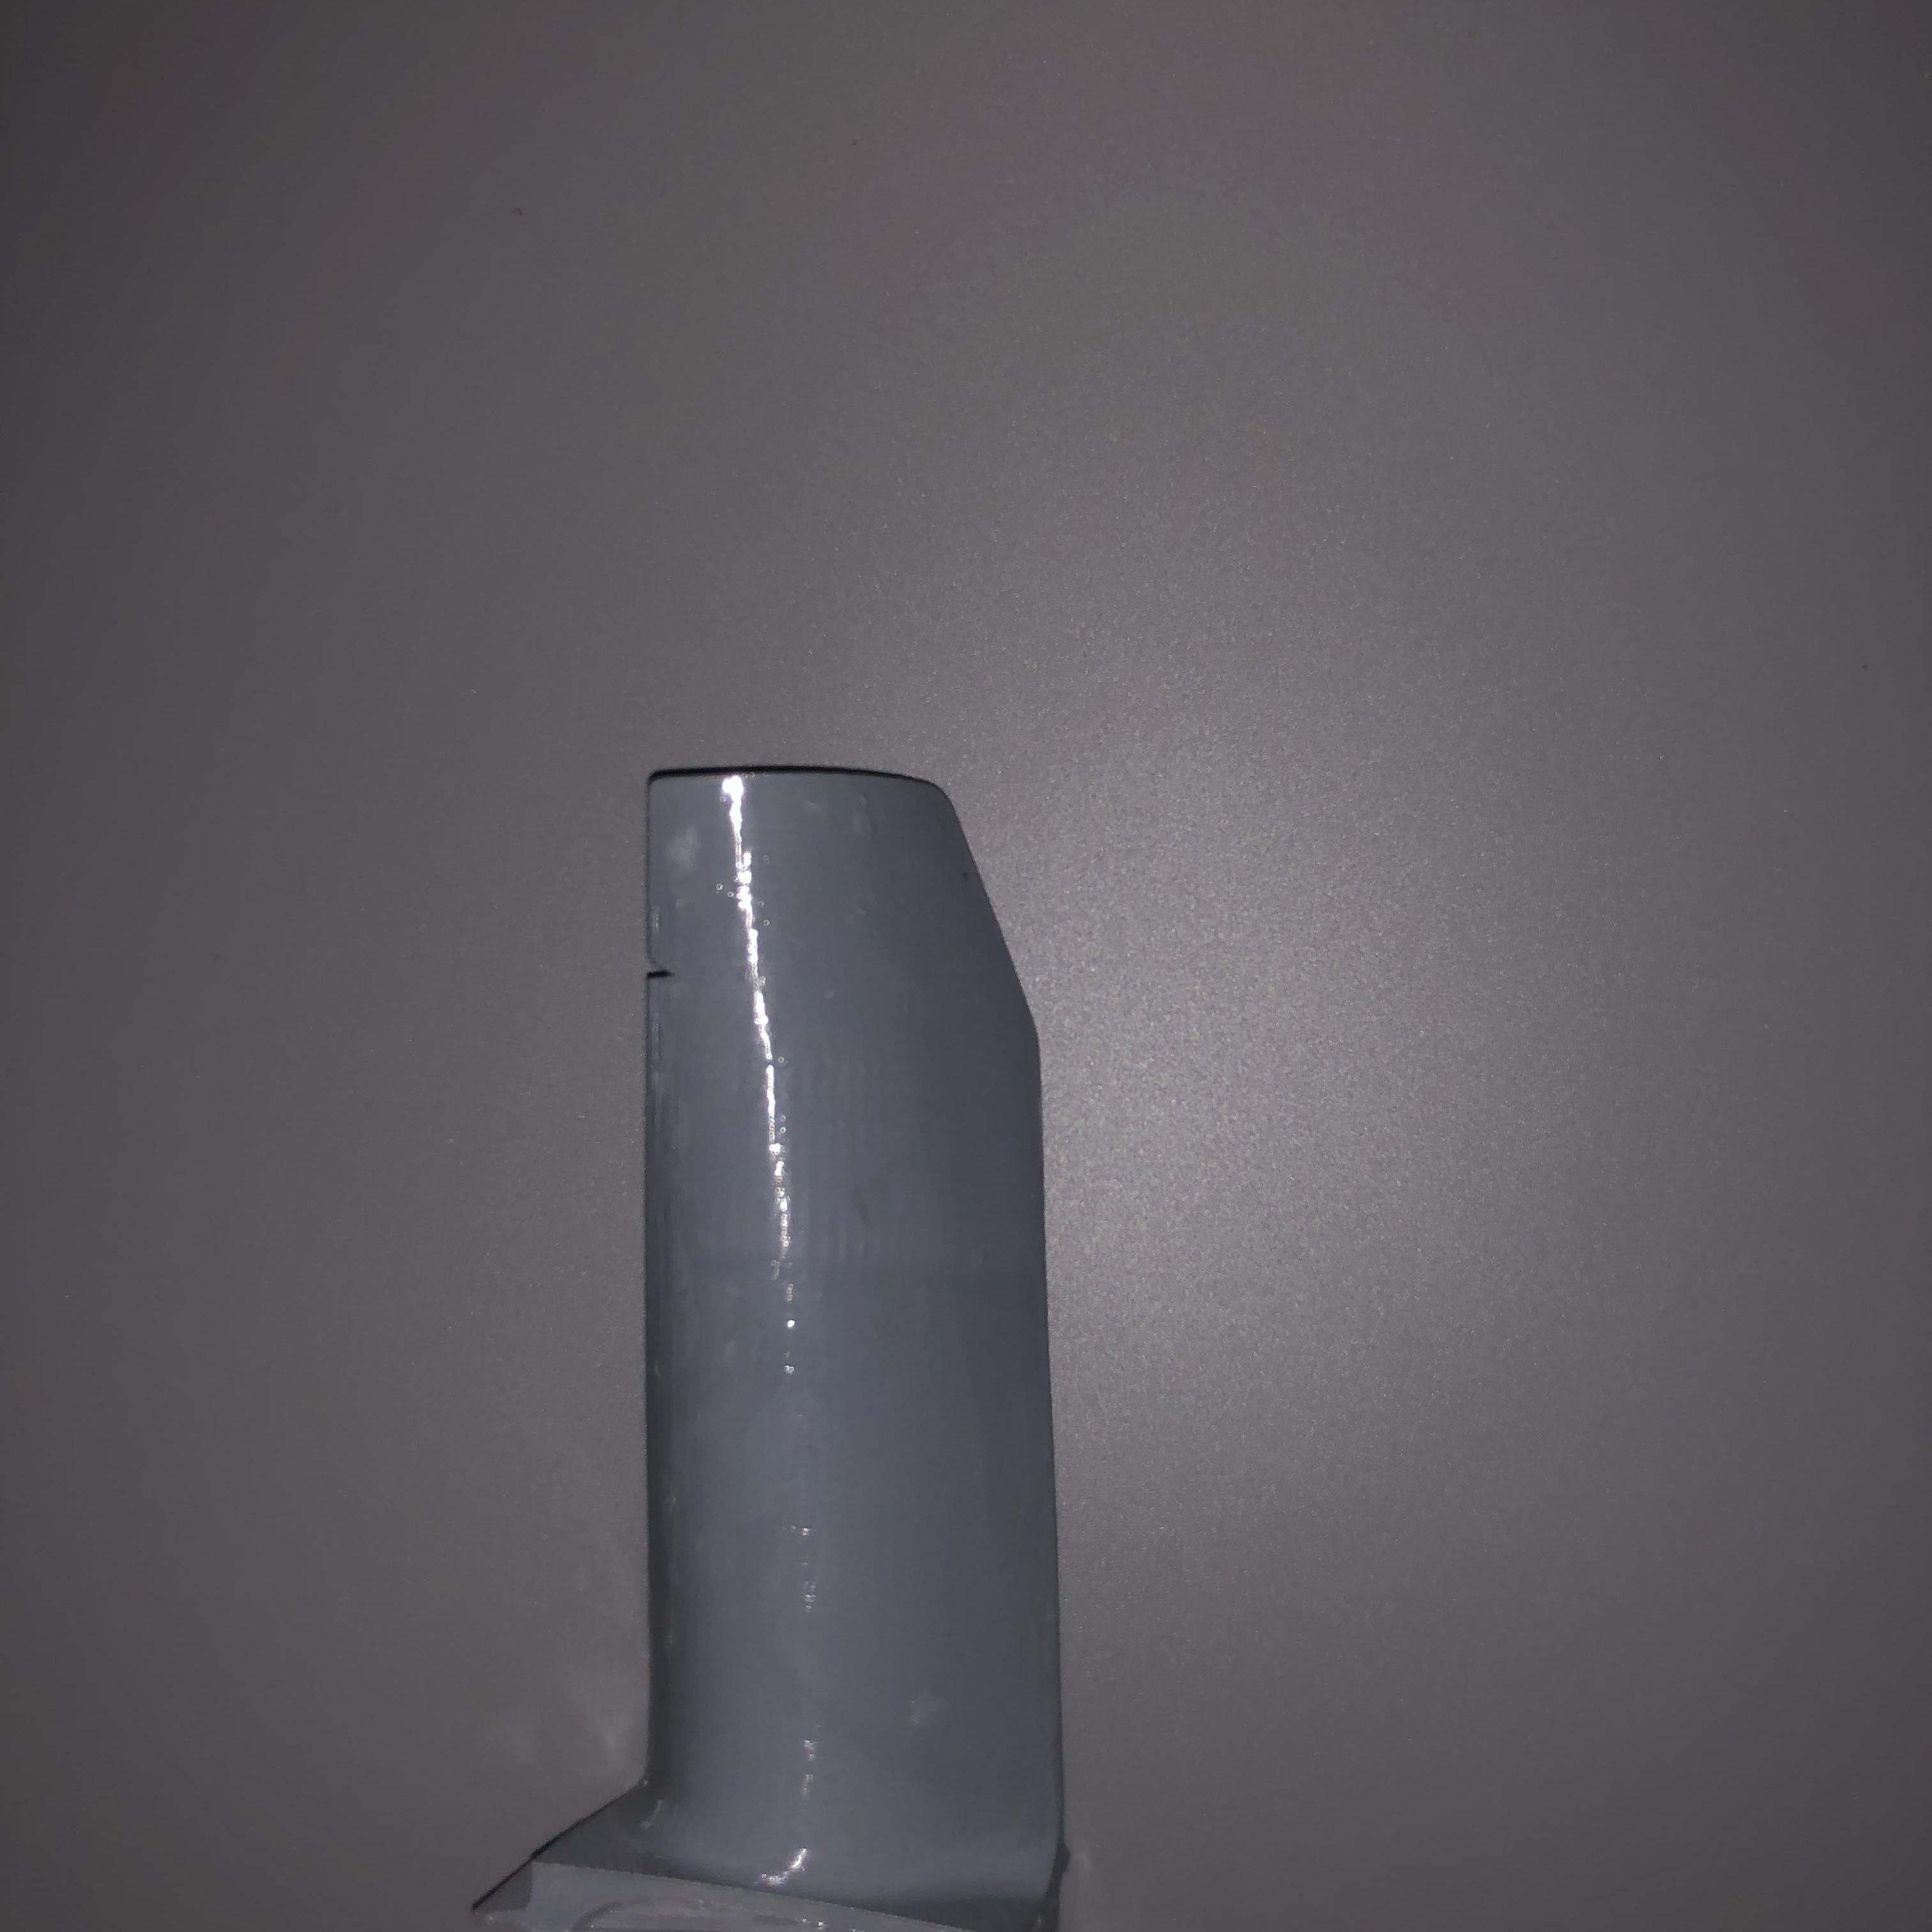groove: (646, 950, 681, 980)
